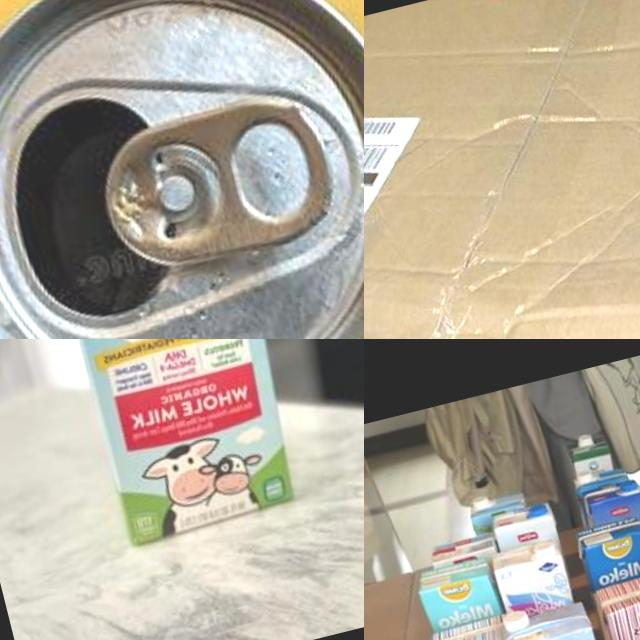aba de lata: (87, 82, 347, 283)
caixinha: (20, 339, 319, 548), (488, 534, 576, 618), (413, 551, 504, 632), (496, 593, 614, 640), (572, 512, 640, 590), (489, 498, 560, 551), (593, 565, 640, 640), (578, 473, 640, 527), (423, 530, 498, 570), (468, 489, 530, 534), (567, 436, 615, 477)
lata: (0, 0, 364, 339)
papelão: (364, 0, 640, 339)
tampa plástica: (502, 608, 530, 632), (530, 538, 558, 560), (618, 476, 640, 492), (472, 492, 491, 508), (527, 502, 547, 516), (577, 431, 594, 446)
